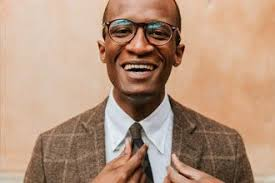black_male: (101, 1, 198, 112)
